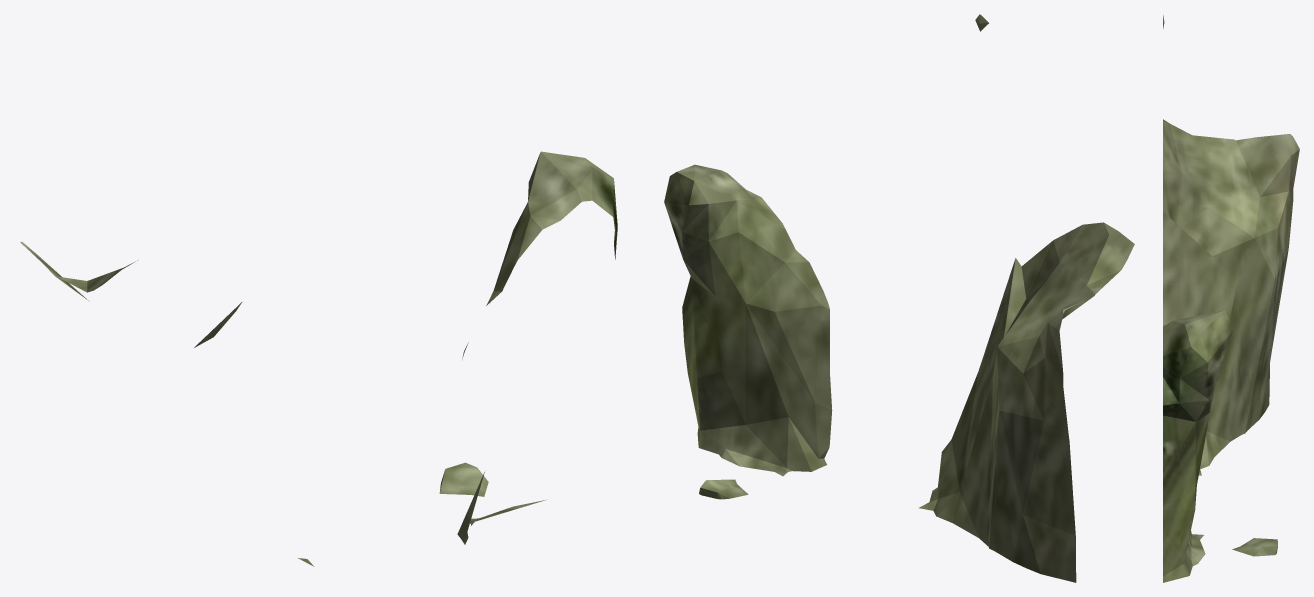
3 views of the same model, side by side, from view 1: azimuth 30°, elevation 25°; view 2: azimuth 150°, elevation 25°; view 3: azimuth 270°, elevation 25° (orthographic). The views are drawn at different scales.
Size of the model in its own units: 2.64 by 2.72 by 0.759.
1 material, 1 textured.
